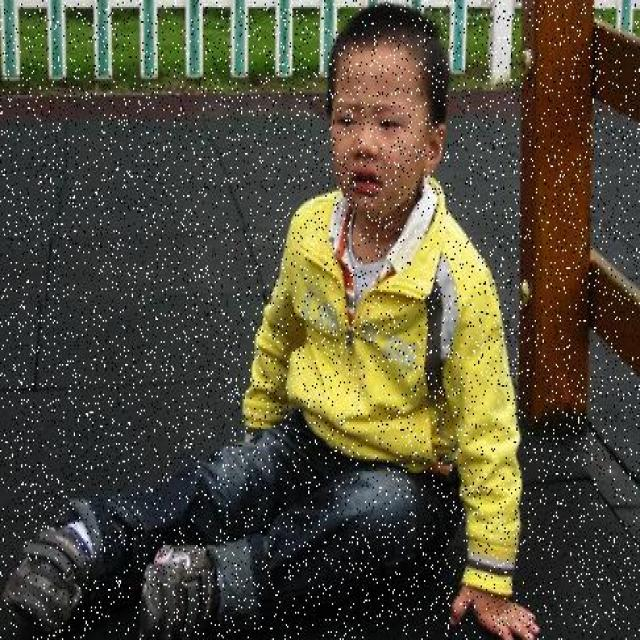fall: (20, 70, 496, 632)
